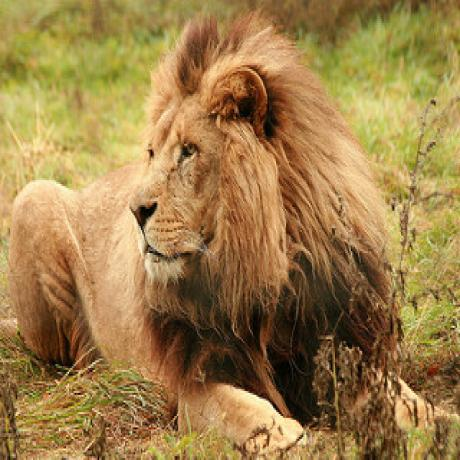Lion: (11, 12, 425, 449)
